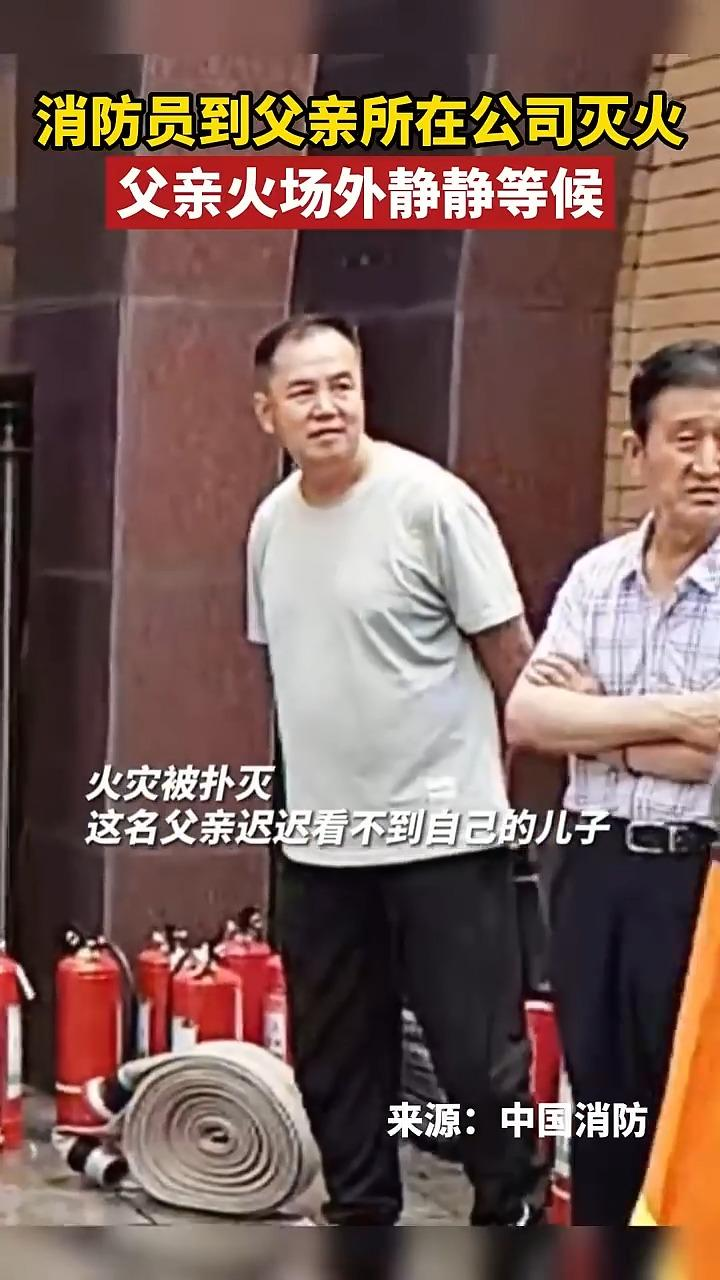FireExtinguisher: (47, 925, 138, 1147), (138, 903, 236, 1085), (229, 898, 301, 1057), (0, 926, 48, 1156)
